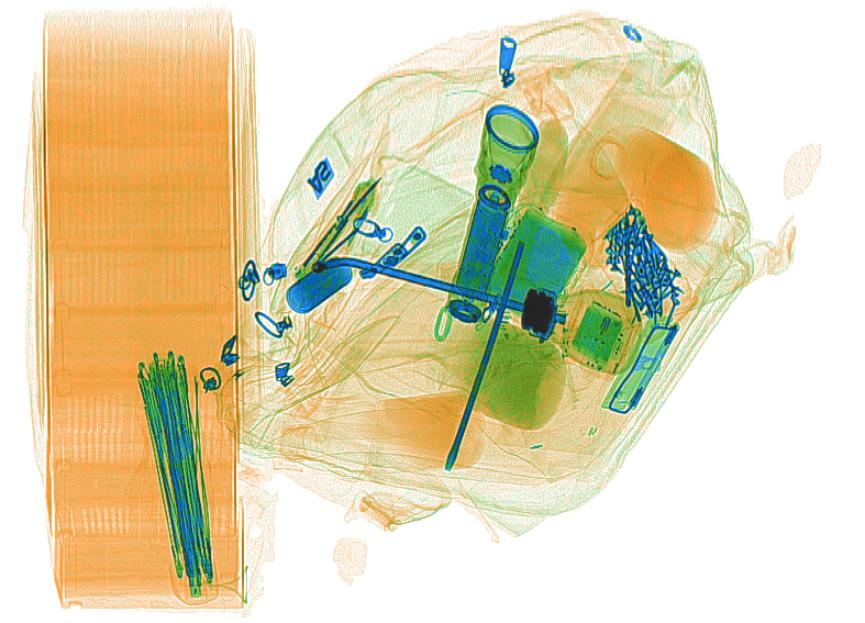battery: (452, 185, 509, 301), (283, 253, 352, 315)
